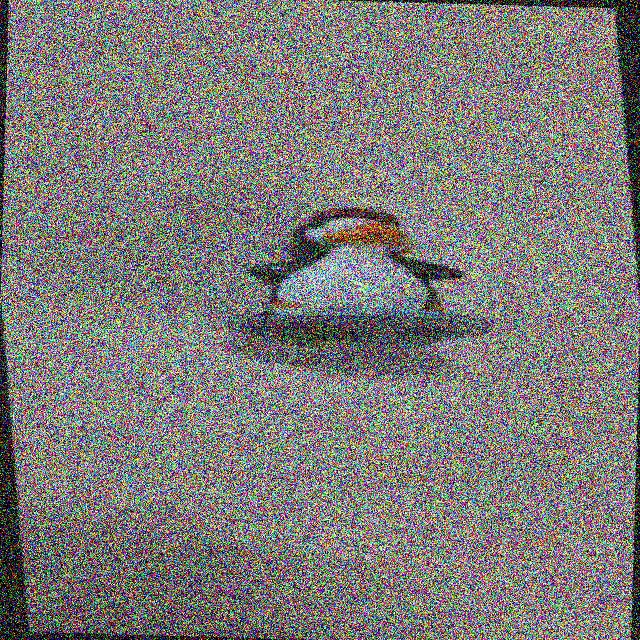Penguin: (222, 197, 486, 353)
